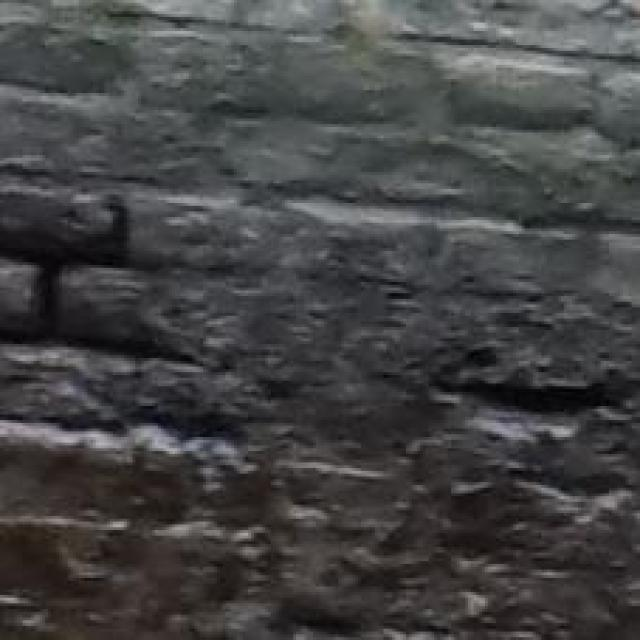Crack: (0, 134, 640, 488)
